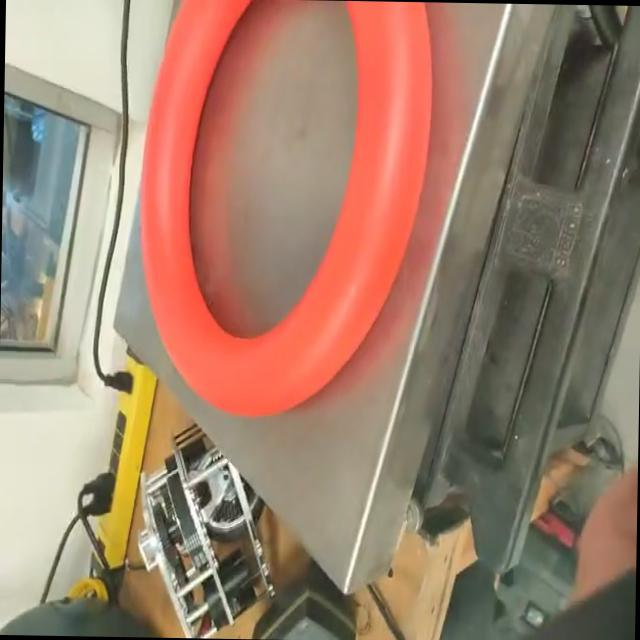note: (130, 0, 435, 423)
